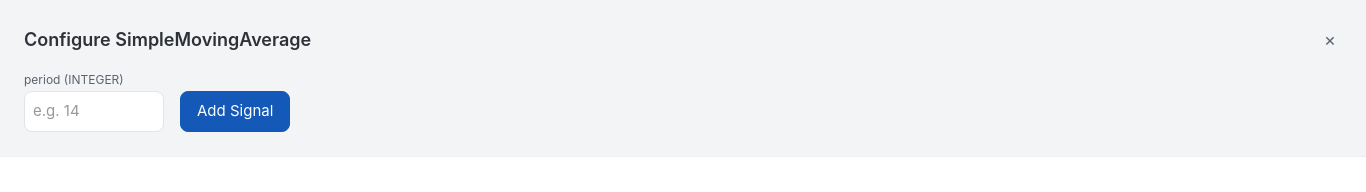
Test case: SignalConfigPanel › clears errors when values are corrected after submission
# Submit with invalid value
Type "abc" into the field named "period" at (94, 111), box [24, 91, 164, 132]
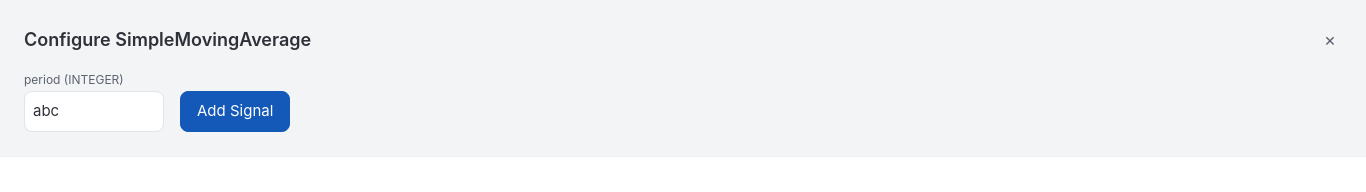
Click the button "Add Signal" at (235, 111), box [180, 91, 290, 132]
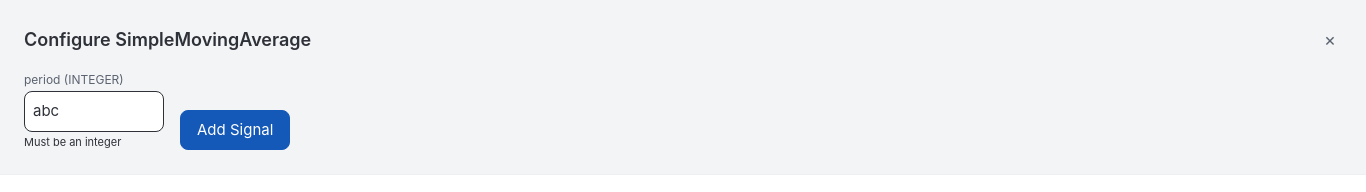
Expected: the message "Must be an integer" is shown, [24, 134, 121, 148]
# Fix the value - error should clear
Replace the text in the field named "period" with "14" at (94, 111), box [24, 91, 164, 132]
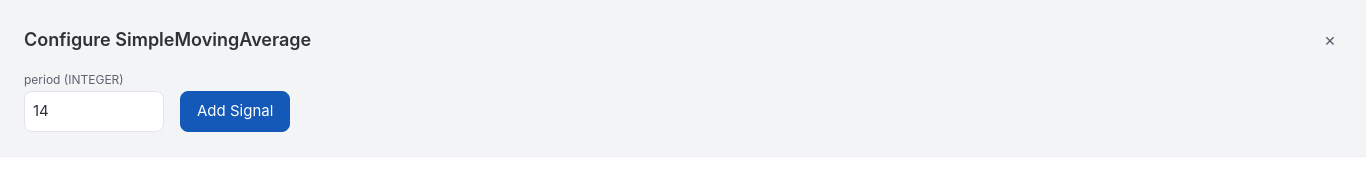
Expected: the message "Must be an integer" is gone
